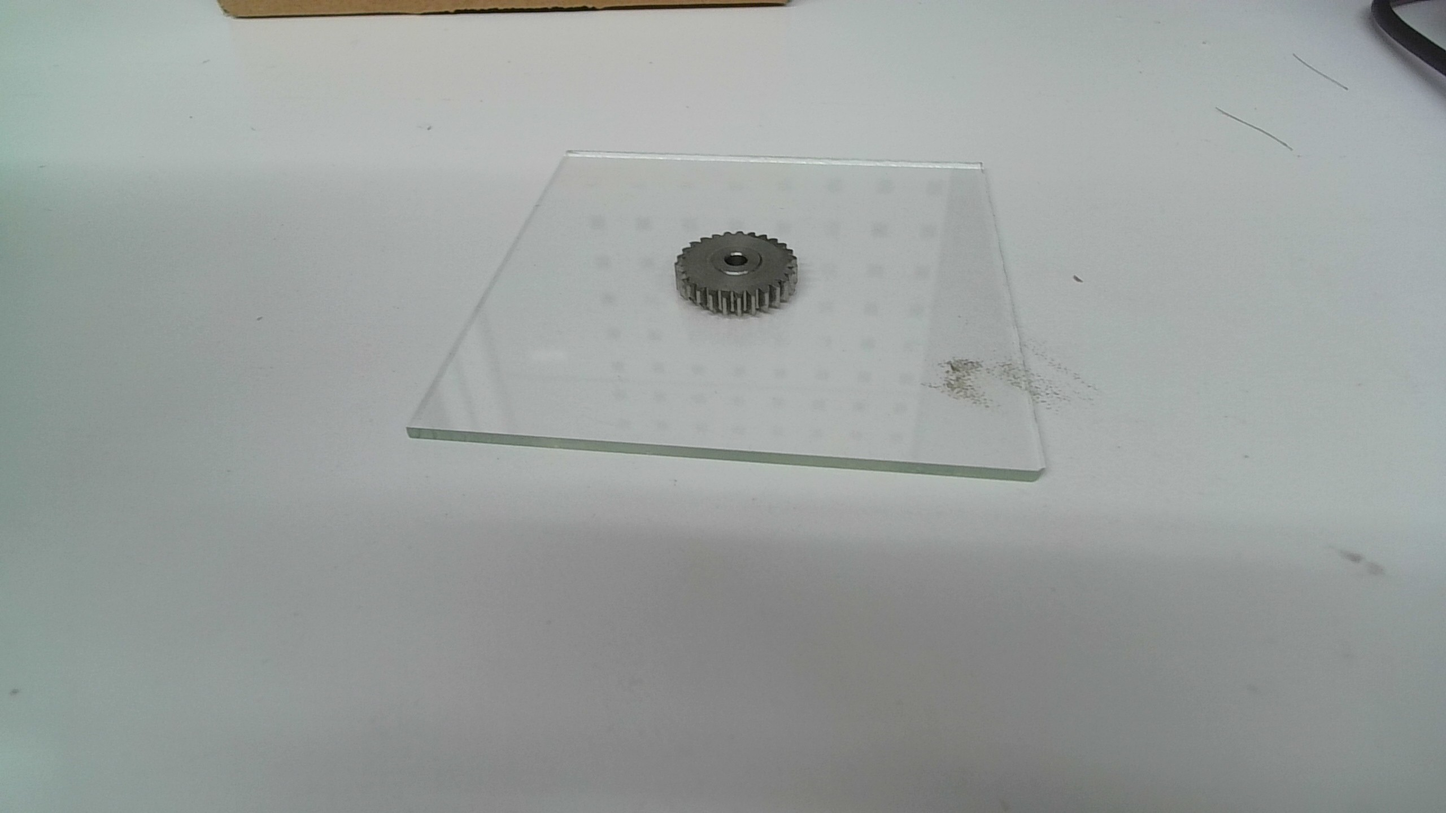gear: (673, 229, 801, 319)
